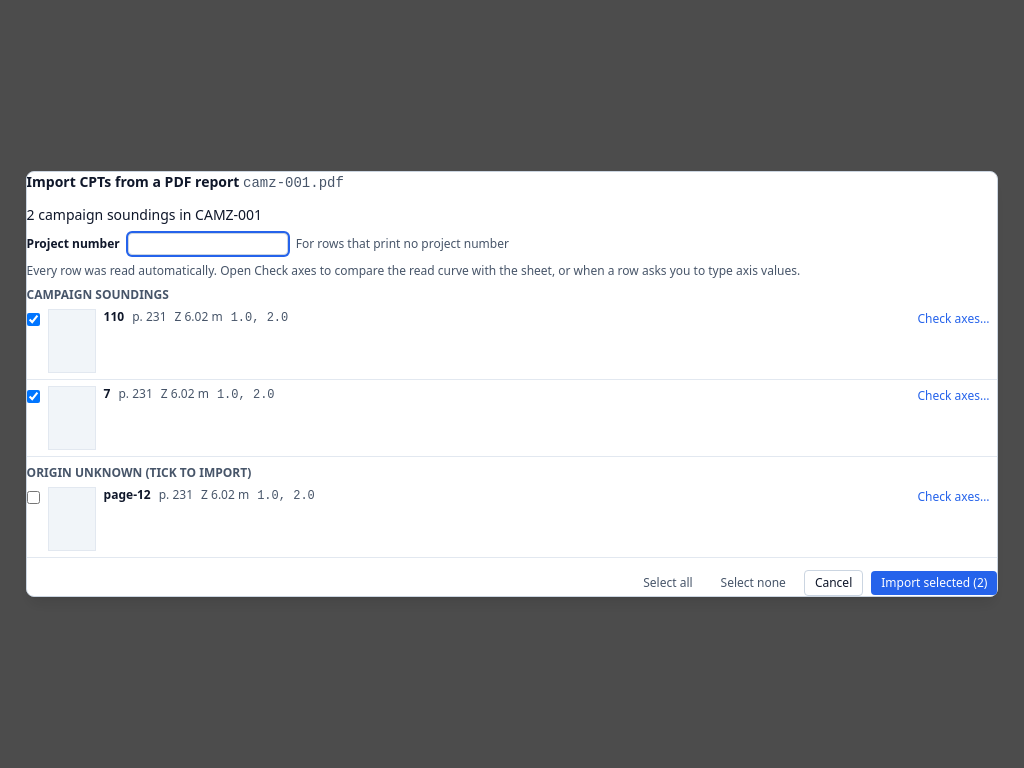
Test: CptPdfImportDialog › a declined replacement is left unchanged and nothing is re-posted
Click the button with test id "cpt-pdf-import".
click(934, 583)  # box 871,571 -> 997,595
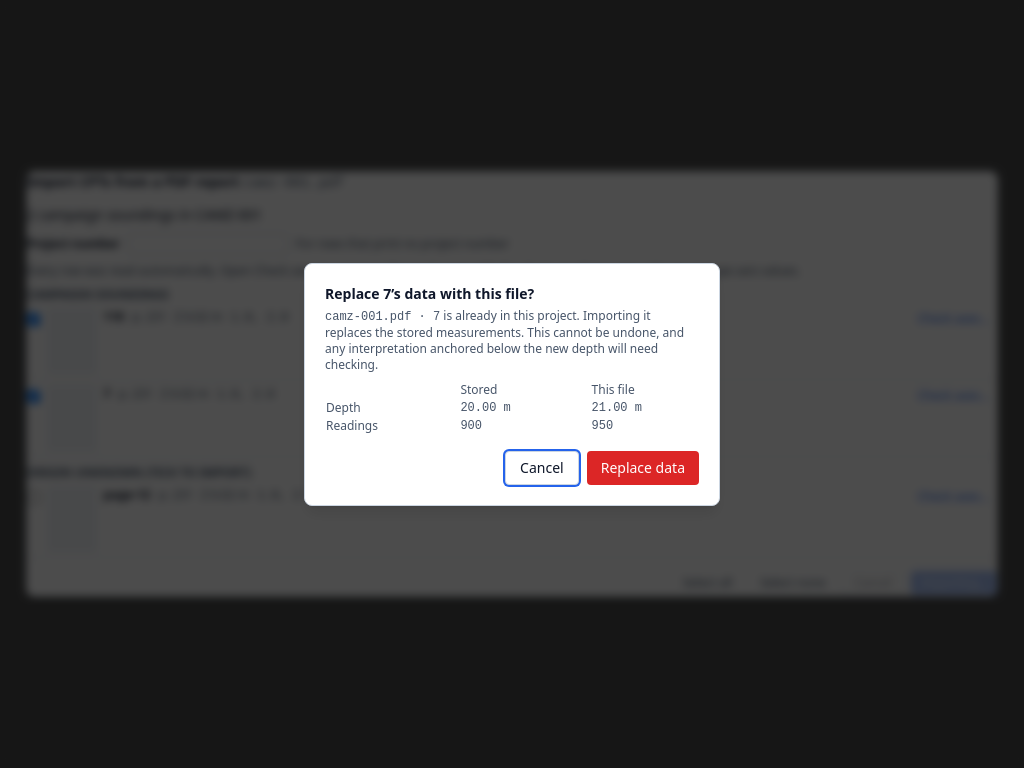
Check: the dialog with test id "cpt-refresh-confirm-dialog" is shown, box 304,262 -> 720,506
Click the button with test id "cpt-refresh-cancel".
click(542, 468)  # box 505,450 -> 579,484
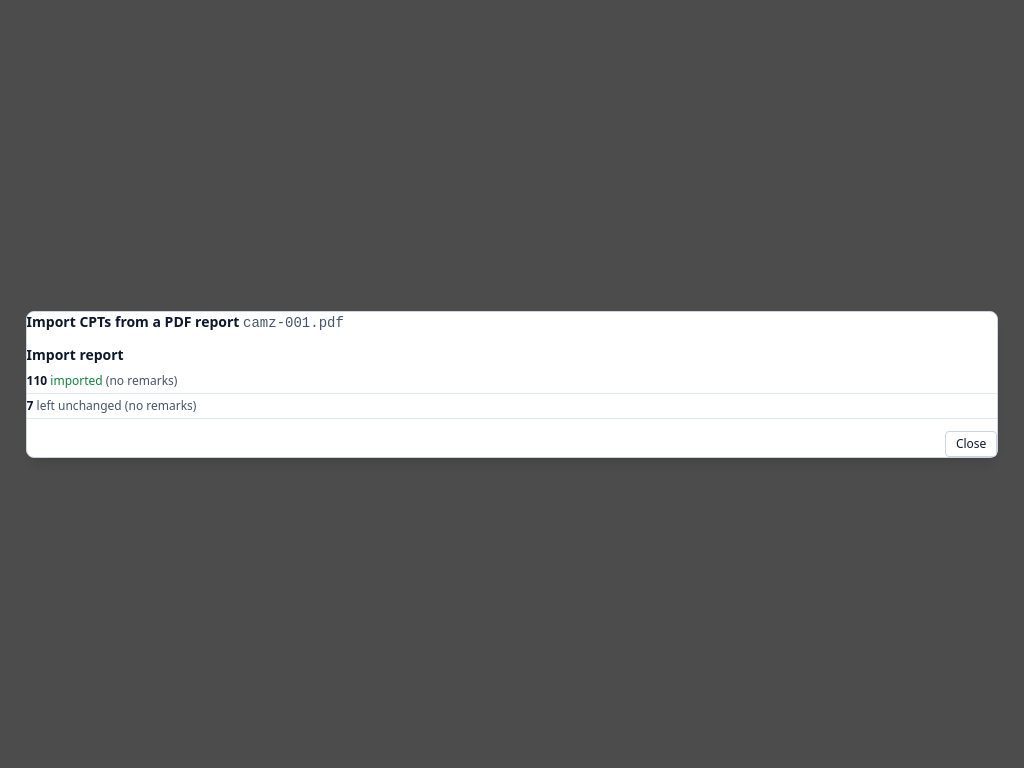
Check: the list item with test id "cpt-pdf-report-row" shows "left unchanged", box 37,396 -> 122,414
